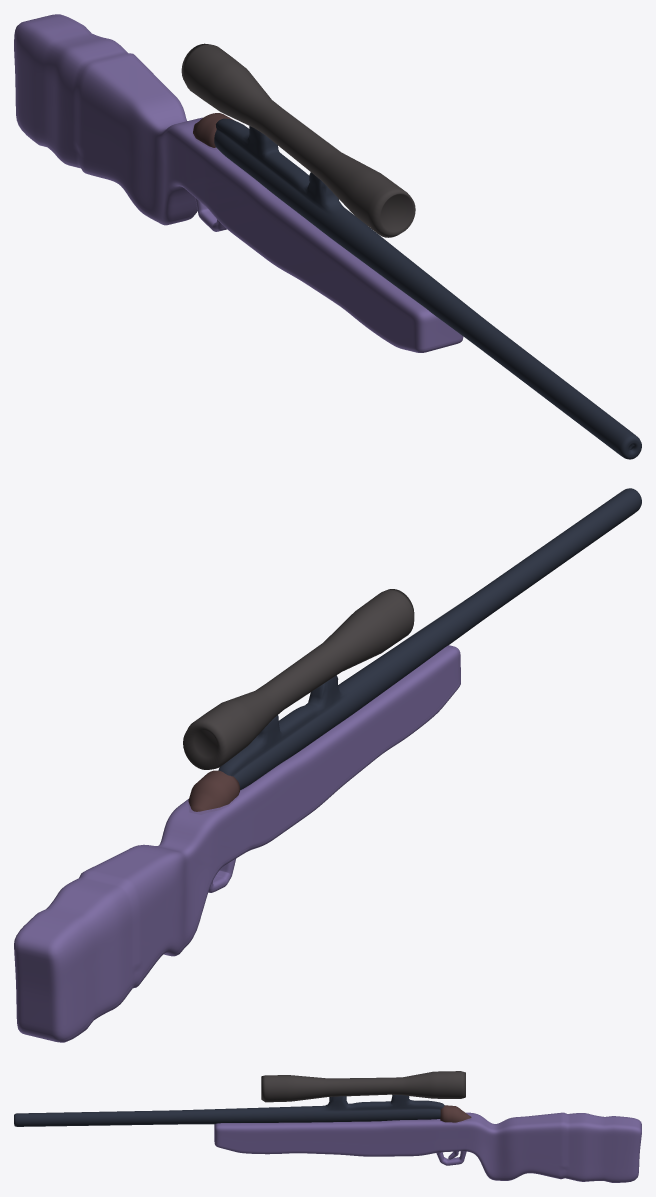
File: sniperrifle.fbx
3 renders of one model, top to bottom at view 1: azimuth 30°, elevation 25°; view 2: azimuth 150°, elevation 25°; view 3: azimuth 270°, elevation 25°, orthographic. The views are drawn at different scales.
Visible parts, largest first — view 1: Cylinder; view 2: Cylinder; view 3: Cylinder.
Part boxes in pixels (bbox=[...]): Cylinder: bbox=[14, 14, 641, 459]; Cylinder: bbox=[14, 488, 641, 1042]; Cylinder: bbox=[14, 1071, 641, 1182].
Bounding box in the file's own units: 28.38 × 91.09 × 491.
